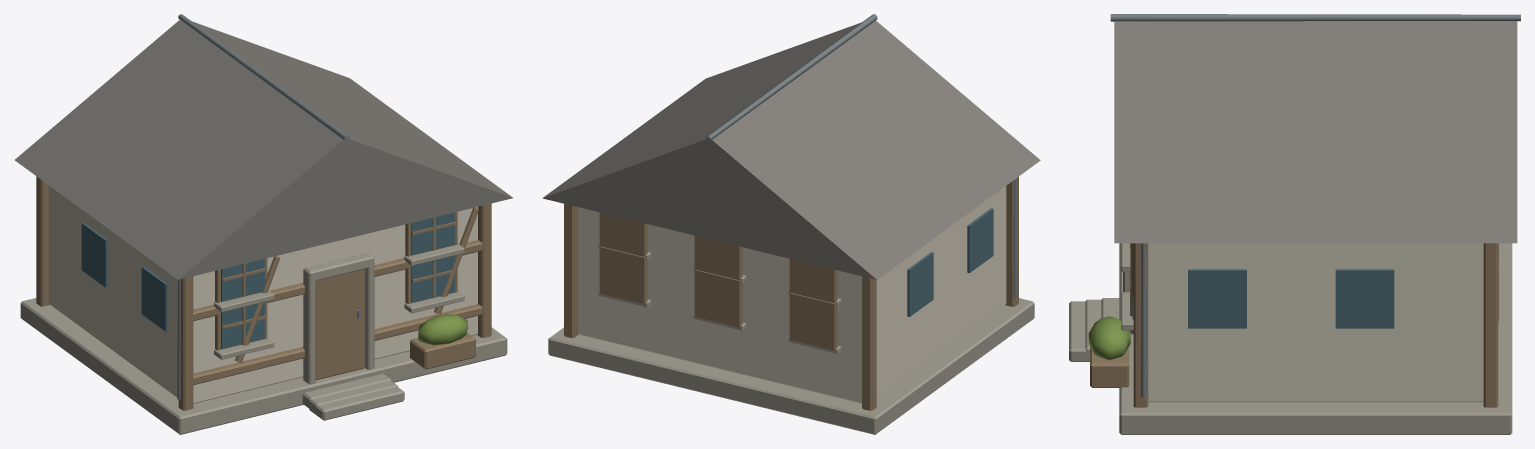
File: bld_maison_a03.glb
The picture shows the model from 3 angles, left to right: view 1: azimuth 30°, elevation 25°; view 2: azimuth 150°, elevation 25°; view 3: azimuth 270°, elevation 25°; orthographic projection. The views are drawn at different scales.
Parts seen in each view (by area): view 1: bld_maison_a03; view 2: bld_maison_a03; view 3: bld_maison_a03.
Part boxes in pixels (x1,y1,x2,y2): bld_maison_a03: (14, 14, 512, 434); bld_maison_a03: (542, 14, 1040, 434); bld_maison_a03: (1069, 14, 1520, 434).
Size of the model in its own units: 3.88 by 2.91 by 3.68.
